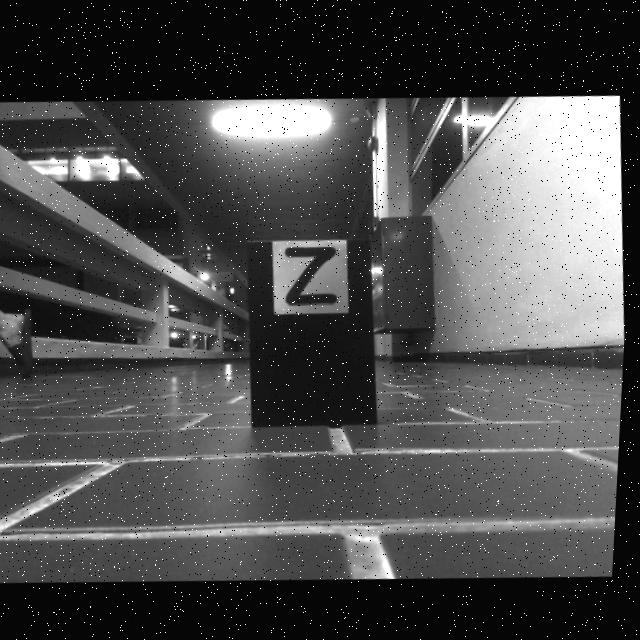Z: (287, 243, 340, 300)
